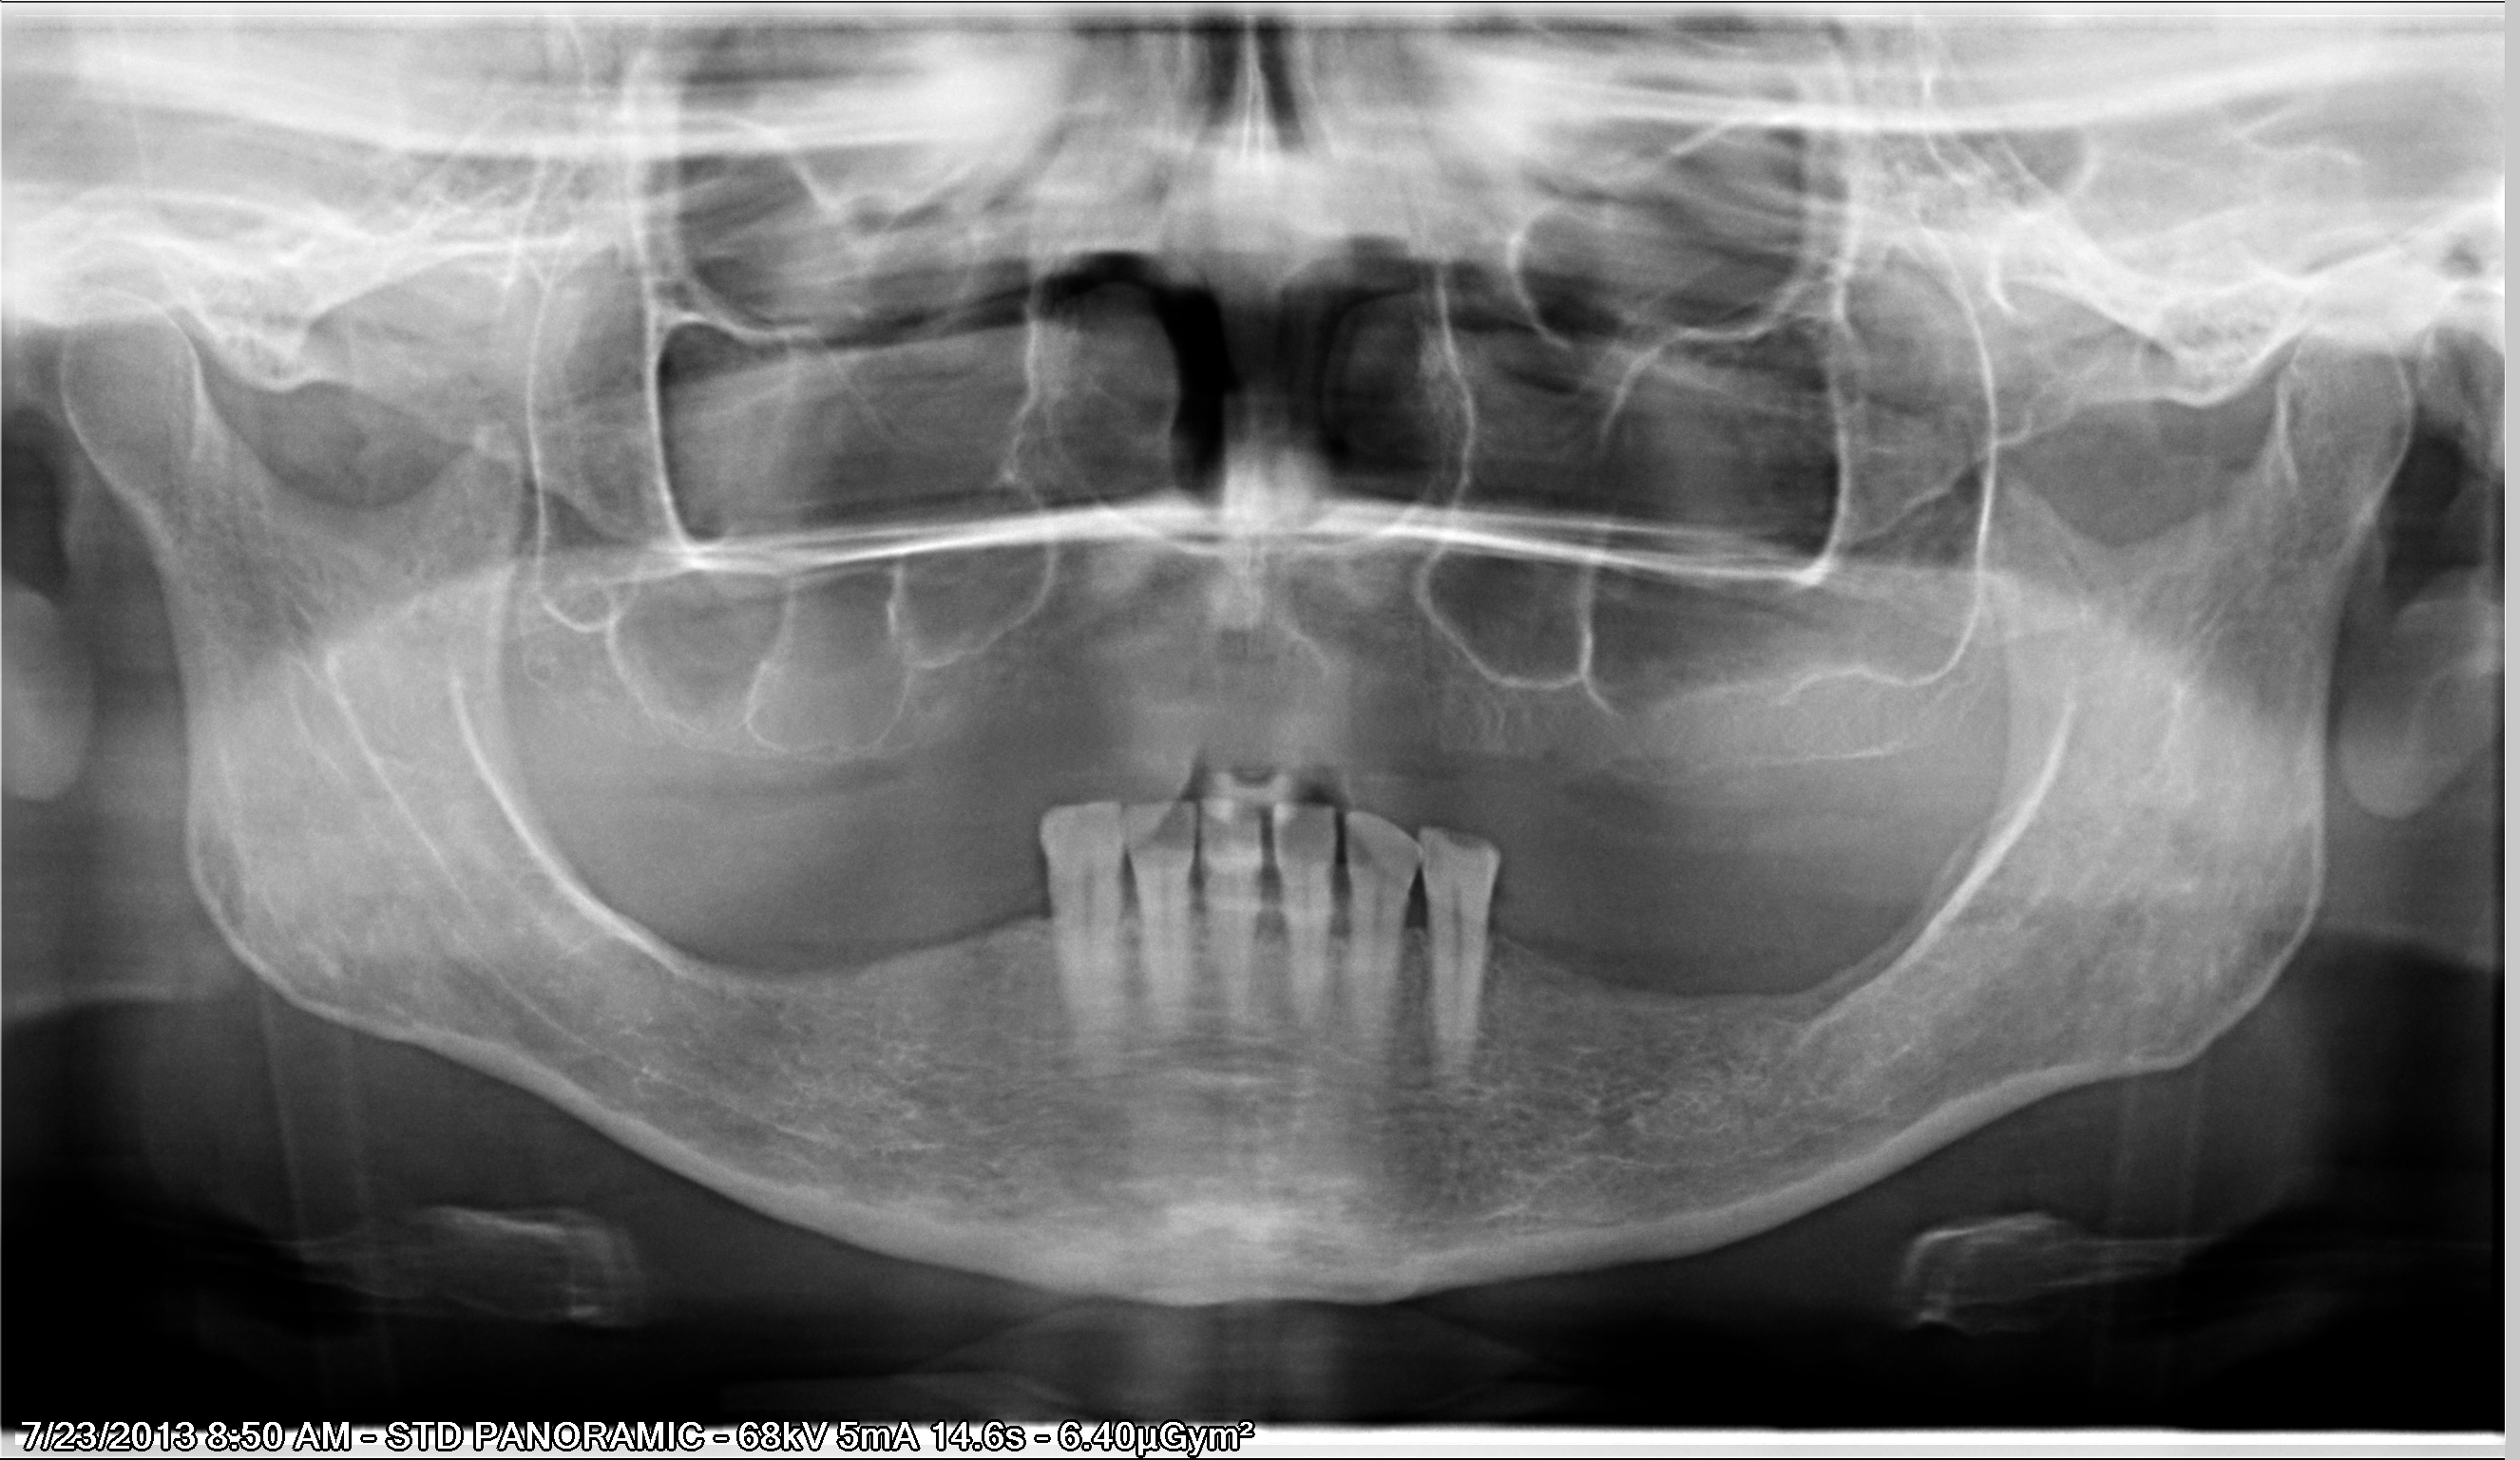IMT: (1251, 871, 1291, 954), (1323, 869, 1356, 970)
